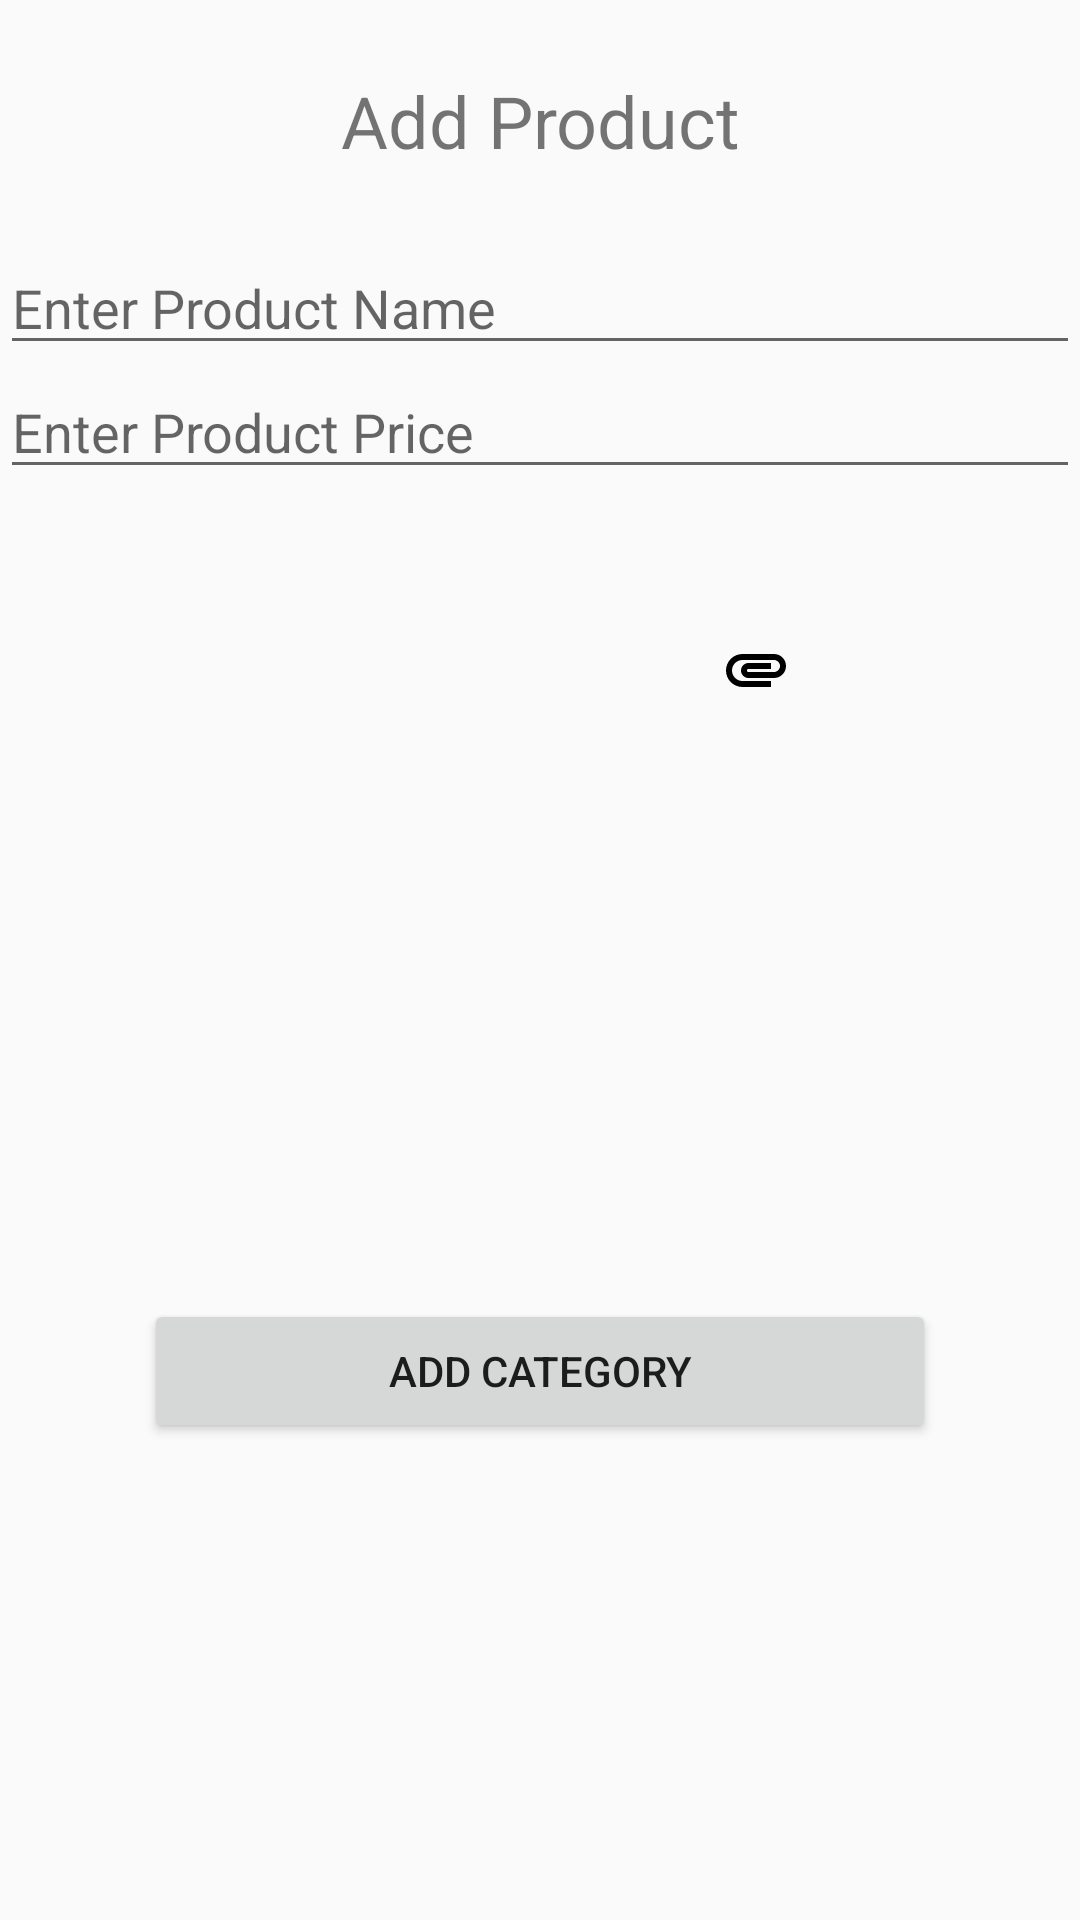

Icon bounding boxes for this 1080px×1920px phone screenshot, format (x1, y1, x2, y2):
attachment: (726, 654, 786, 687)
